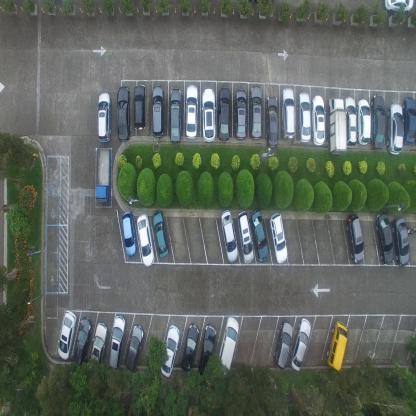car: (215, 316, 239, 377), (290, 318, 312, 373), (325, 321, 348, 373), (328, 95, 347, 156), (197, 324, 216, 382), (160, 322, 180, 377), (235, 209, 254, 266), (94, 147, 112, 207), (88, 322, 108, 375), (219, 210, 238, 265), (57, 308, 77, 360), (375, 211, 395, 263), (124, 322, 145, 371), (272, 320, 292, 371), (136, 213, 154, 268), (108, 314, 126, 369), (250, 208, 269, 260), (269, 212, 288, 263), (180, 321, 199, 371), (73, 314, 91, 365), (346, 213, 364, 264), (387, 102, 403, 157), (116, 84, 131, 142), (391, 217, 409, 265), (168, 87, 183, 144), (201, 87, 216, 143), (217, 85, 231, 143), (371, 93, 385, 151), (281, 86, 296, 140), (97, 90, 112, 143), (185, 84, 199, 140), (152, 210, 168, 259), (312, 93, 326, 146), (298, 91, 312, 144), (121, 210, 136, 259), (151, 84, 164, 139), (356, 98, 371, 145), (402, 97, 416, 147), (250, 85, 262, 141), (133, 83, 147, 131), (344, 94, 356, 149), (235, 89, 247, 142), (267, 94, 278, 150), (384, 0, 414, 15)
